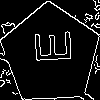E: (25, 29, 72, 65)
